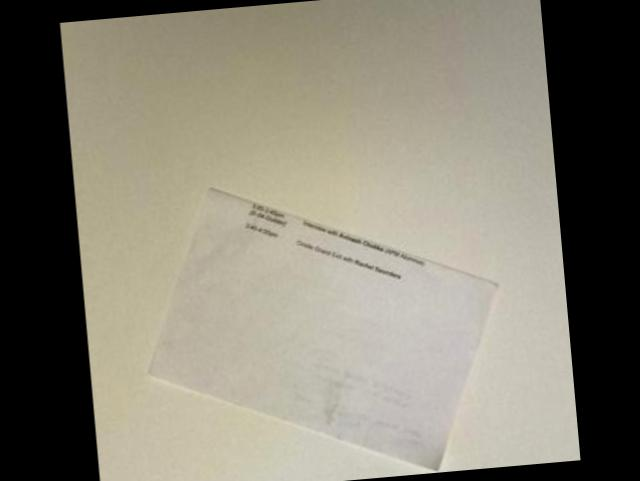cardboard paper: (147, 189, 494, 470)
